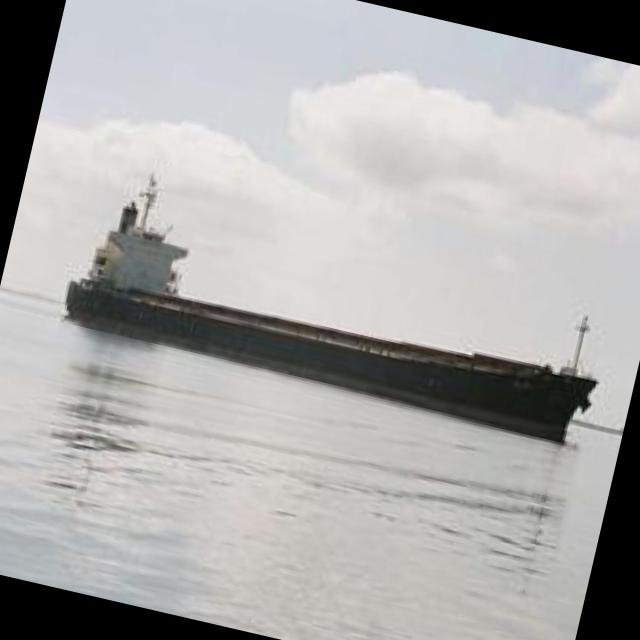boat: (69, 178, 627, 452)
